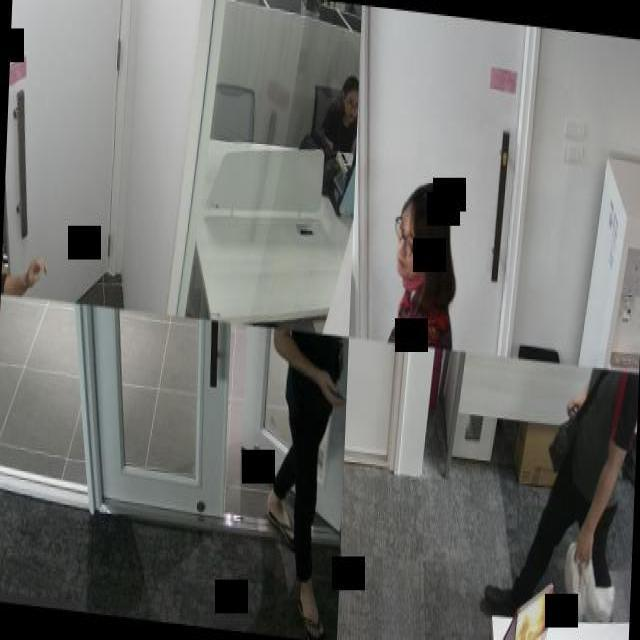hairnet: (394, 210, 427, 292)
